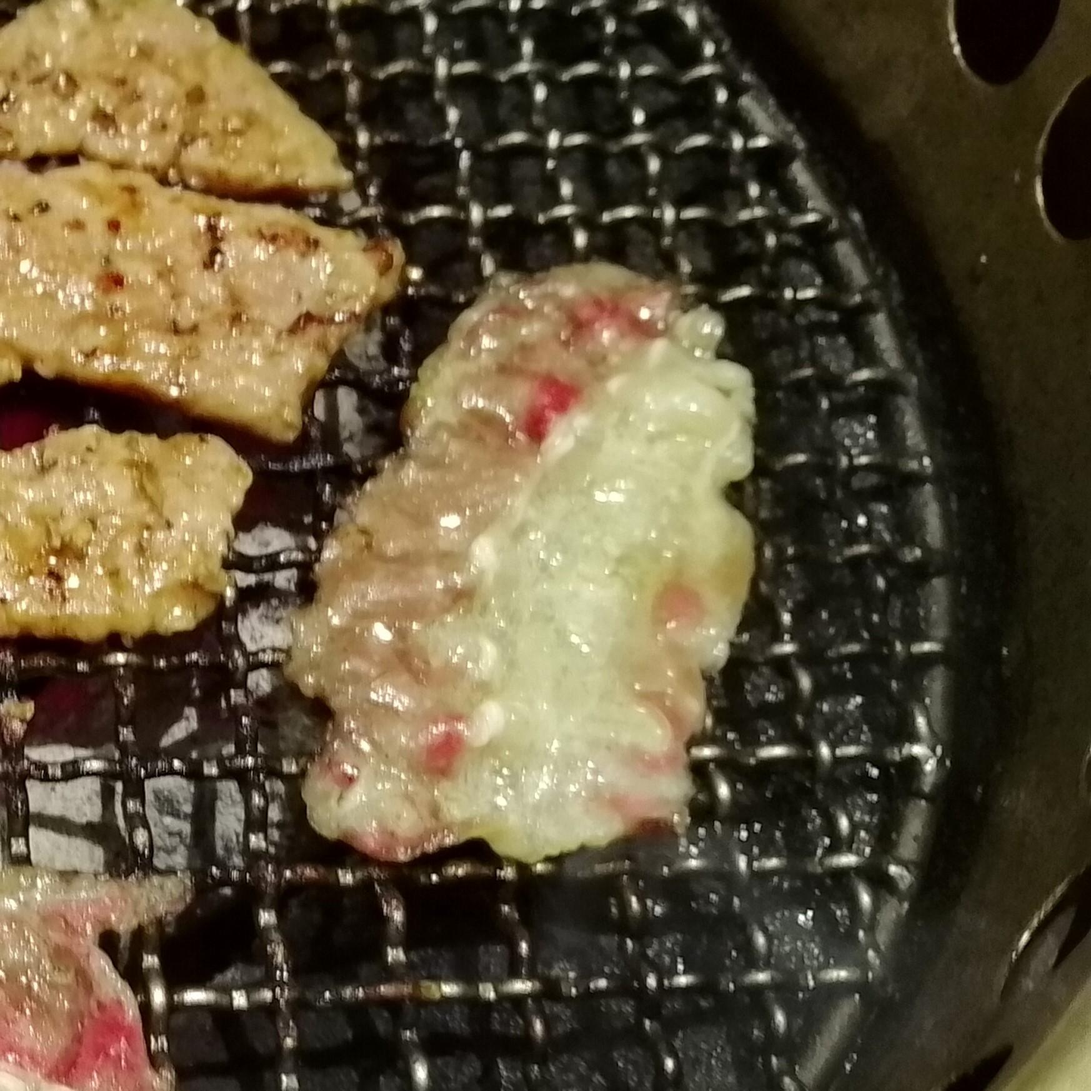Undercooked: (286, 262, 757, 868), (0, 888, 166, 1090)
Well-Cooked: (0, 0, 406, 461), (0, 429, 253, 643)
